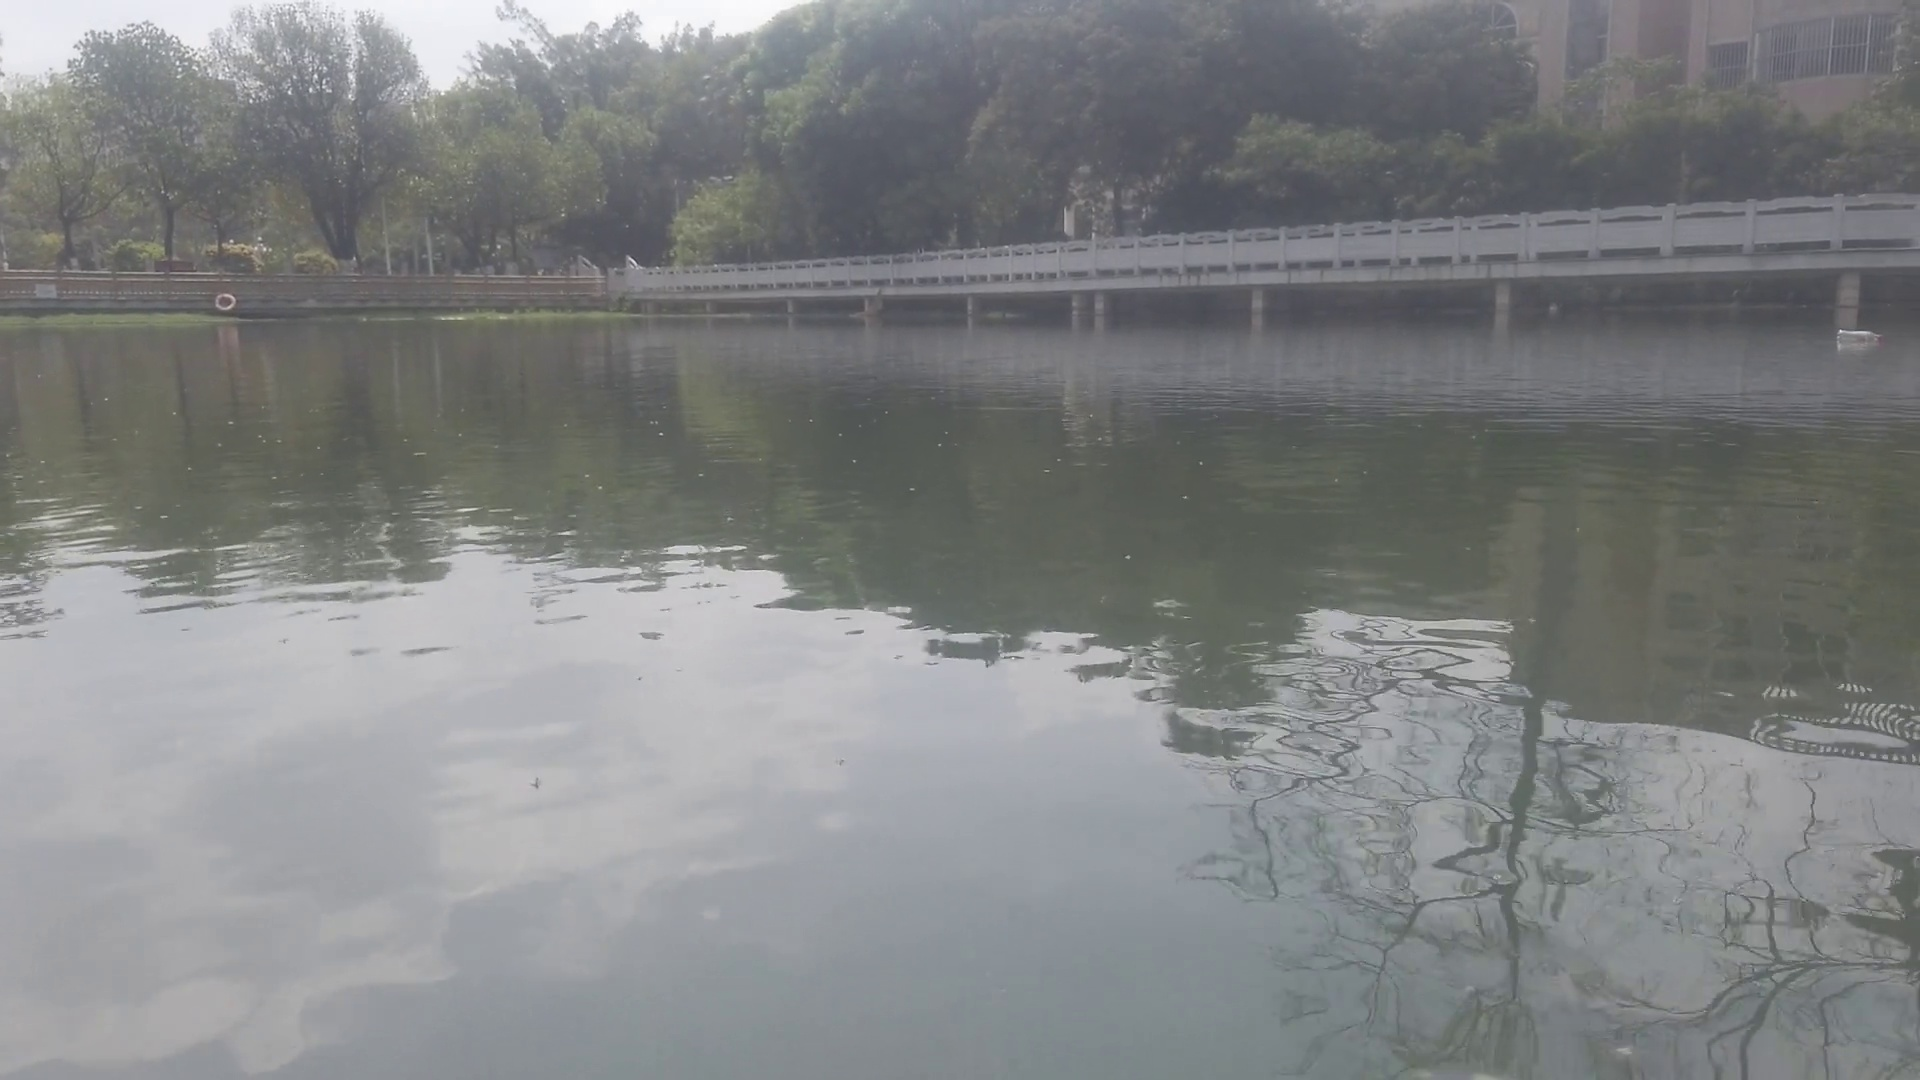bottle: (1836, 324, 1884, 344)
